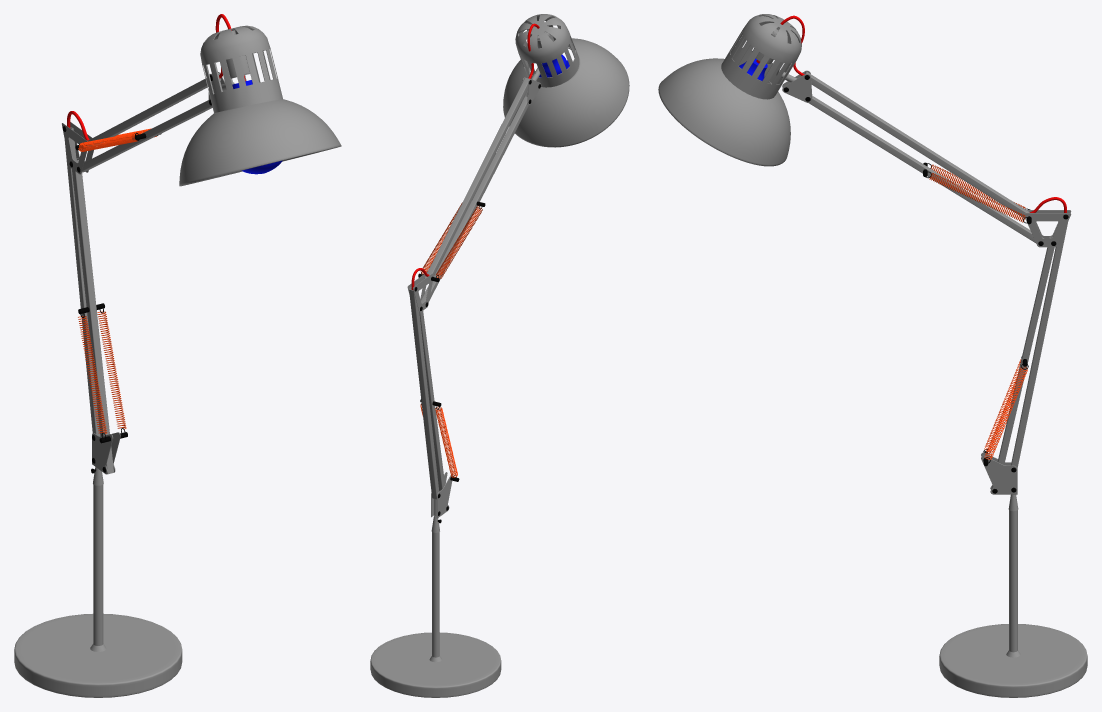
Rendered from Luminaria.fbx.
3 views of the same model, side by side, from view 1: azimuth 30°, elevation 25°; view 2: azimuth 150°, elevation 25°; view 3: azimuth 270°, elevation 25° (orthographic). The views are drawn at different scales.
Visible parts, largest first — view 1: AI30_004_lamp_001_16; view 2: AI30_004_lamp_001_16; view 3: AI30_004_lamp_001_16.
Part boxes in pixels (x1,y1,x2,y2): AI30_004_lamp_001_16: (14,14,341,697); AI30_004_lamp_001_16: (370,14,629,697); AI30_004_lamp_001_16: (658,14,1087,697).
Size of the model in its own units: 19.96 by 95.31 by 56.91.
